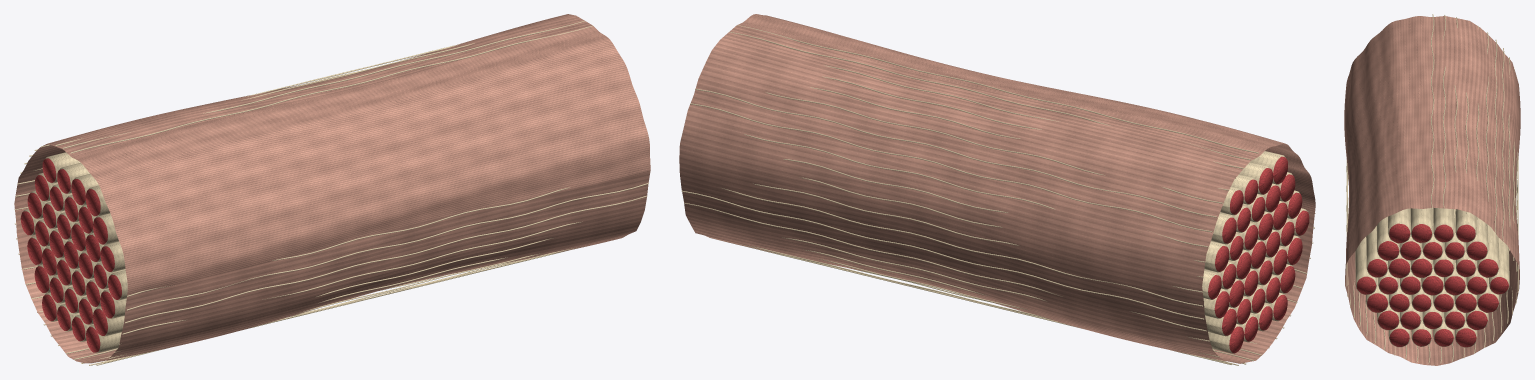
Rendered from fascicle.glb.
The picture shows the model from 3 angles, left to right: view 1: azimuth 30°, elevation 25°; view 2: azimuth 150°, elevation 25°; view 3: azimuth 270°, elevation 25°; orthographic projection. The views are drawn at different scales.
Visible parts, largest first — view 1: Perimysium_volet, Perimysium_coupe, Fibre_00, Endomysium_00; view 2: Perimysium_coupe, Fibre_00, Perimysium_volet, Endomysium_00; view 3: Perimysium_coupe, Perimysium_volet, Fibre_00, Endomysium_00.
Part boxes in pixels (x1,y1,x2,y2): Perimysium_volet: (71,26,650,295); Perimysium_coupe: (14,14,650,365); Fibre_00: (20,158,121,352); Endomysium_00: (23,152,127,353); Perimysium_coupe: (679,25,1315,365); Fibre_00: (1208,156,1309,353); Perimysium_volet: (738,14,1315,213); Endomysium_00: (1202,151,1306,353); Perimysium_coupe: (1345,14,1520,365); Perimysium_volet: (1344,16,1432,282); Fibre_00: (1357,223,1508,347); Endomysium_00: (1355,207,1509,347).
Bounding box in the file's own units: 6.21 × 2.37 × 2.39.
Materials: 3 (3 with a texture image).
